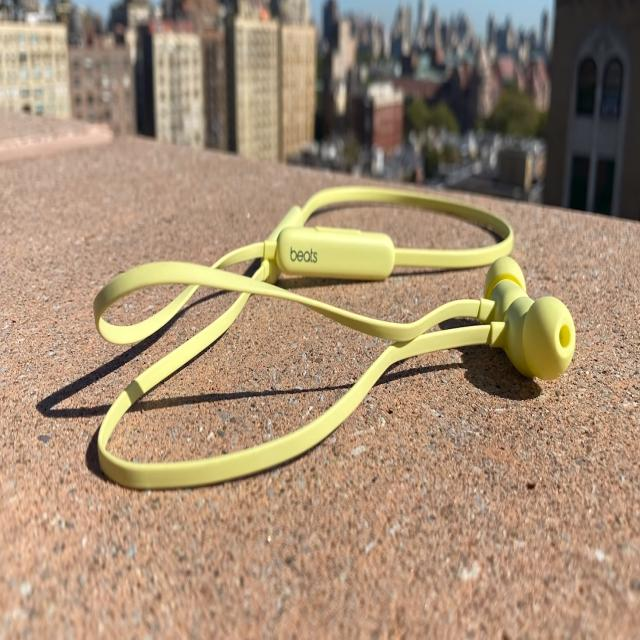Neckband: (93, 185, 577, 490)
